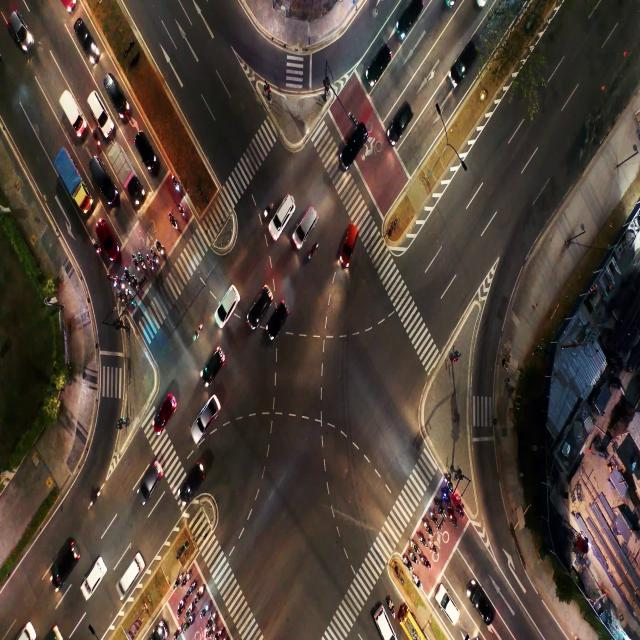motorcycle: (307, 239, 319, 263), (261, 200, 276, 219), (194, 324, 200, 347), (201, 603, 208, 619), (180, 202, 185, 224), (413, 578, 423, 588), (386, 599, 394, 611), (187, 584, 194, 597), (195, 590, 202, 603), (123, 265, 129, 280), (423, 552, 428, 570), (184, 622, 192, 633), (172, 176, 178, 190), (151, 252, 159, 262), (411, 540, 419, 550), (424, 517, 430, 530), (156, 241, 162, 253), (431, 540, 437, 552), (185, 608, 192, 618), (431, 514, 438, 524), (421, 530, 426, 544), (404, 557, 411, 567), (206, 627, 212, 638), (443, 488, 449, 499), (170, 208, 173, 228), (116, 290, 122, 300), (180, 576, 186, 586), (209, 614, 215, 624), (217, 626, 222, 638), (132, 277, 140, 284), (174, 576, 178, 590), (178, 601, 182, 615), (175, 627, 180, 638), (132, 254, 136, 267), (92, 240, 96, 253), (412, 554, 417, 564), (111, 278, 119, 284), (127, 290, 131, 302), (450, 515, 456, 523), (445, 472, 449, 483), (147, 259, 153, 266), (141, 254, 144, 267), (436, 500, 440, 509), (456, 506, 460, 512)
other: (63, 101, 76, 128), (62, 159, 74, 184), (120, 156, 130, 178)
truck: (74, 20, 91, 57), (398, 8, 421, 32), (472, 590, 491, 616), (346, 134, 362, 160), (455, 50, 468, 80), (441, 595, 460, 615), (146, 461, 161, 486), (125, 560, 139, 585), (12, 14, 25, 39), (138, 140, 152, 162), (104, 227, 114, 256), (201, 407, 213, 431), (185, 470, 197, 494), (58, 552, 70, 576), (96, 162, 108, 186), (109, 78, 120, 103), (373, 53, 388, 71), (88, 562, 102, 581), (396, 110, 407, 134), (209, 350, 222, 370), (156, 400, 166, 426), (302, 210, 312, 230), (222, 294, 236, 308), (93, 98, 104, 115), (344, 234, 354, 252), (276, 200, 286, 218), (256, 296, 266, 312), (274, 310, 282, 327)
